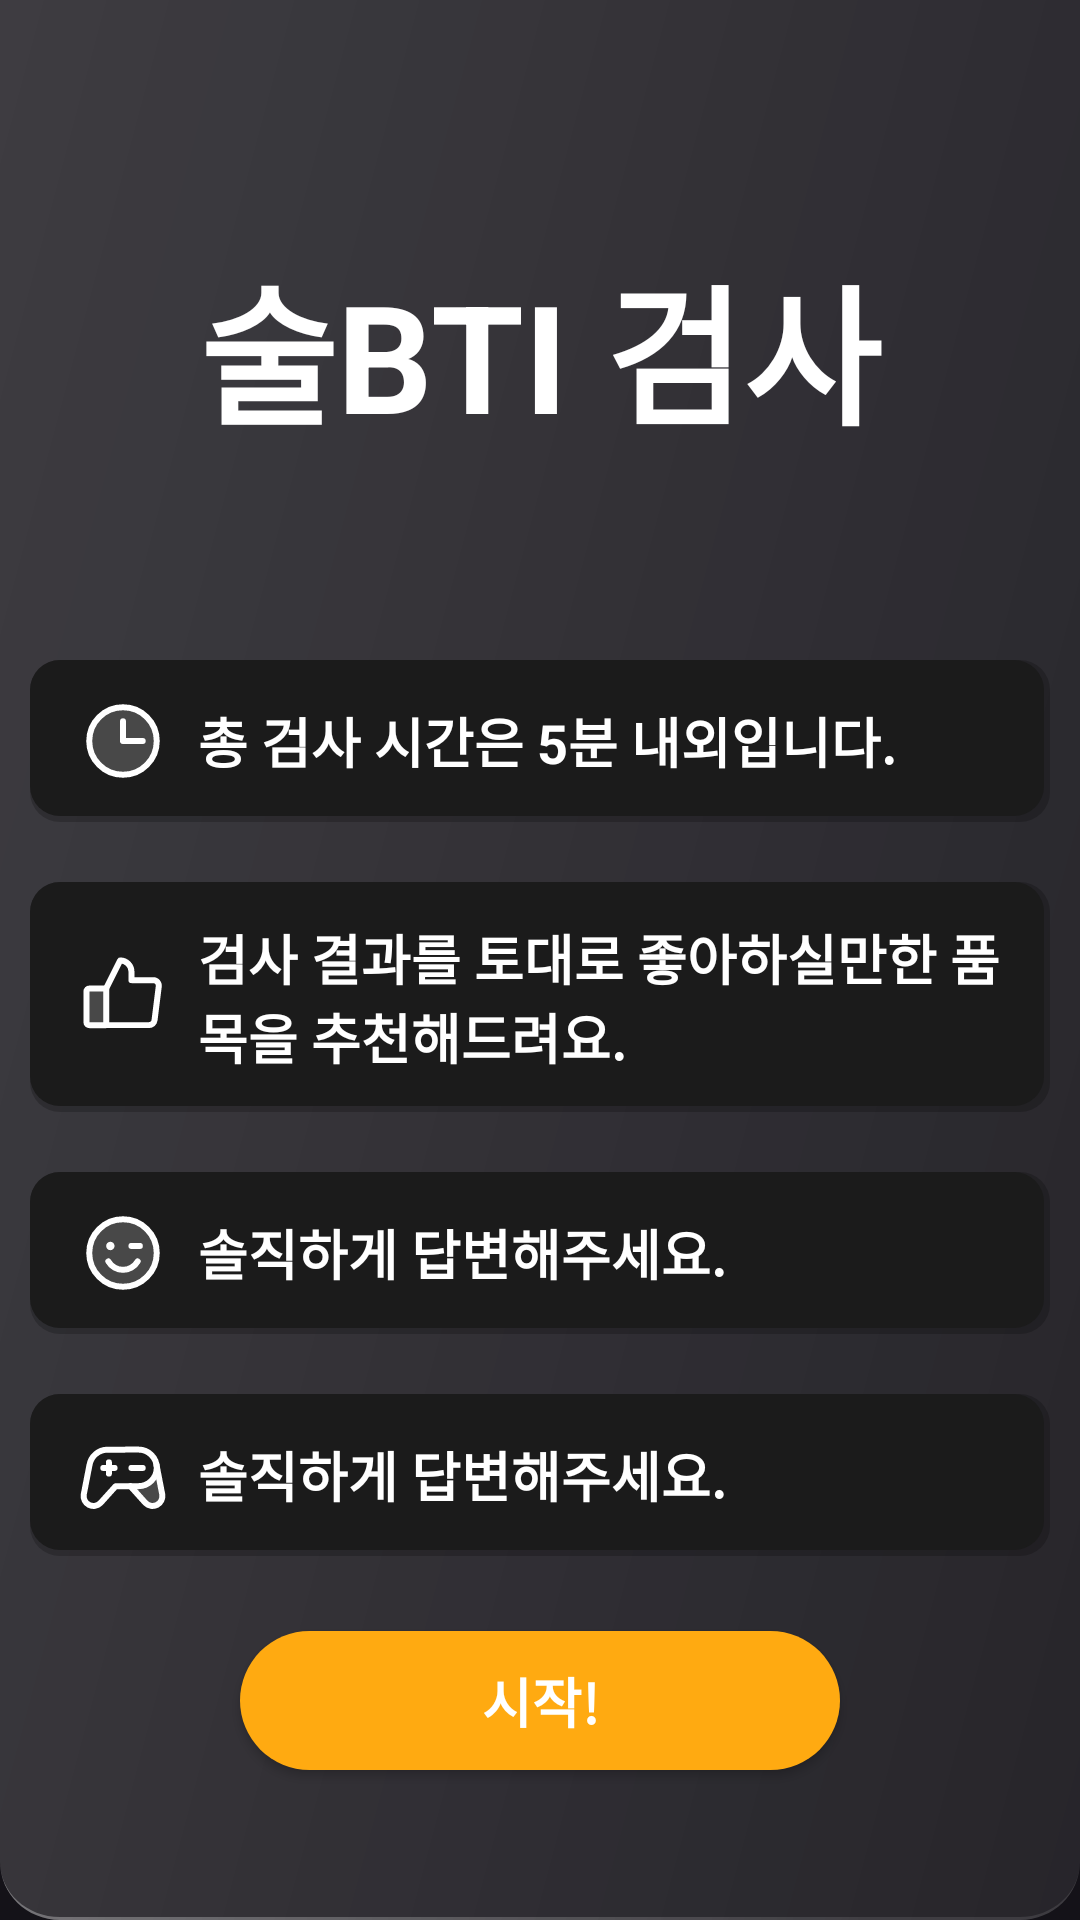

Named icons in this screenshot (1080*1920) and their centers, (x,y):
clock: (123,741)
gamecontroller: (123,1477)
like: (122,993)
wink: (123,1253)
